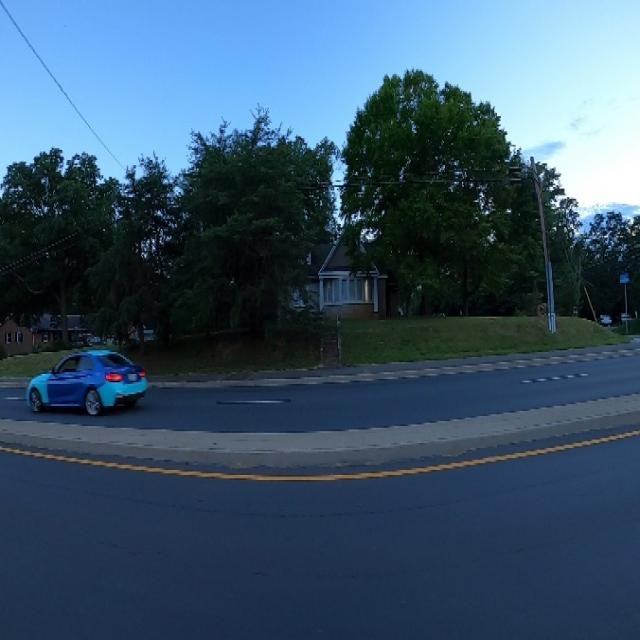car: (26, 329, 150, 426)
